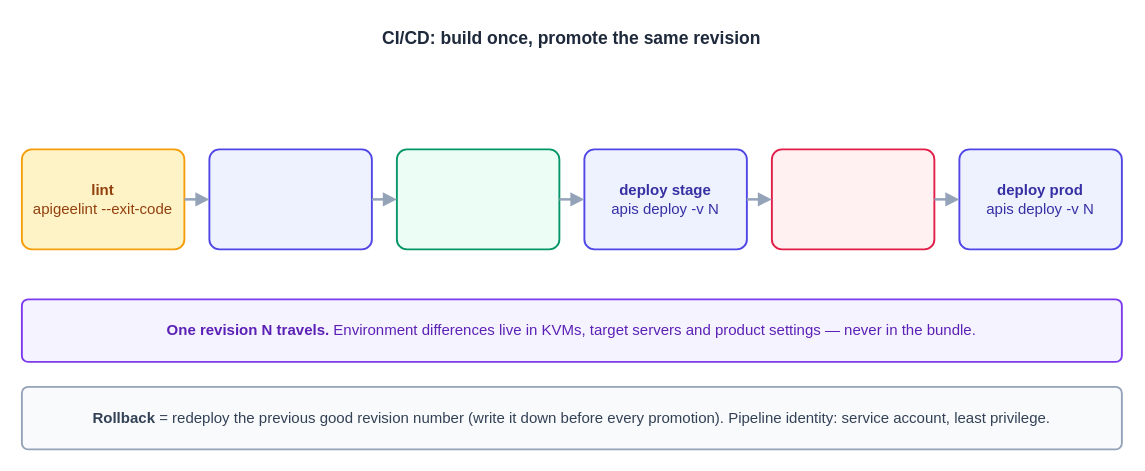
Image size: 1145x471. Some labels were removed from this diagram. The shapes that lost their labels are listed below. From the top down, each one's box as (x1, y1, x2, y2) in pixels, then its label:
(208, 148, 372, 250): import to dev create bundle → revision N
(395, 148, 560, 250): test dev curl / integration tests
(770, 148, 935, 250): manual gate human approval
